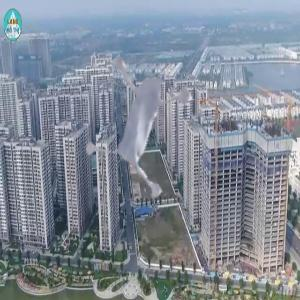drone: (52, 33, 244, 225)
